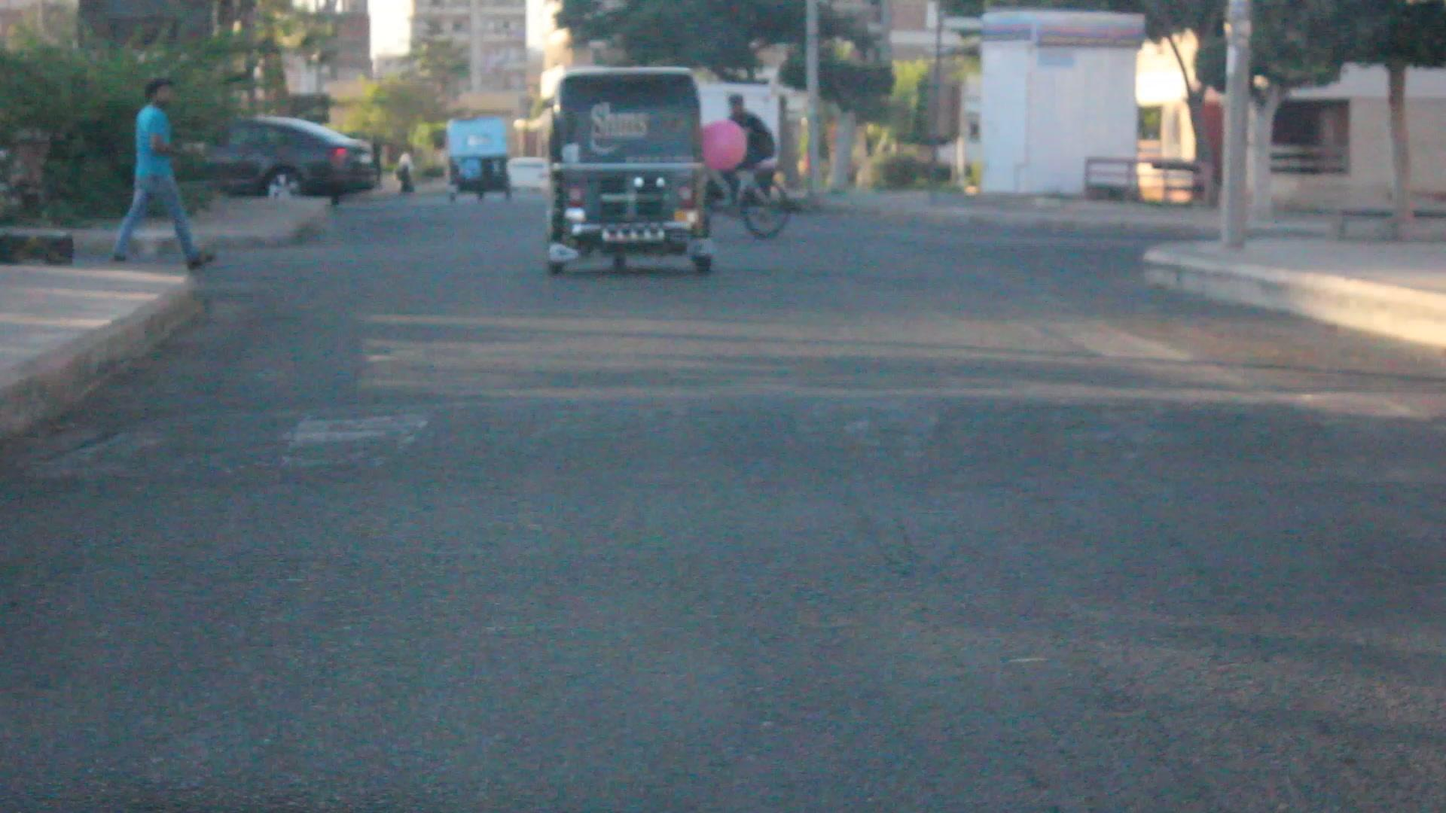Bump: (100, 388, 1446, 495)
